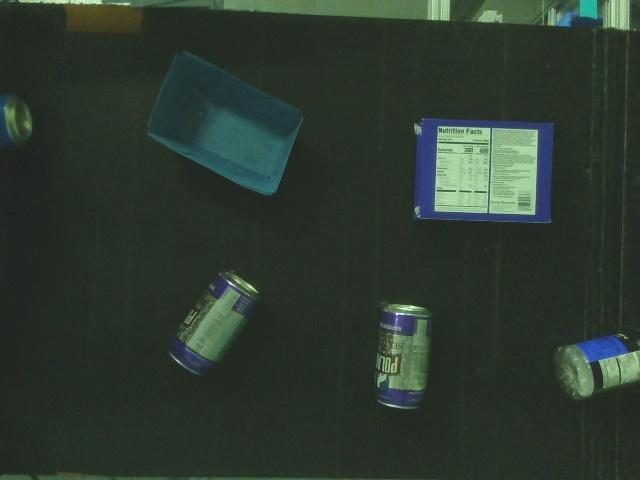cardboard: (144, 50, 305, 197), (416, 118, 554, 222)
metal: (167, 269, 260, 377), (373, 300, 437, 416), (0, 92, 35, 148)
plastic: (558, 326, 640, 405)
